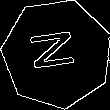N_E: (29, 31, 85, 77)
